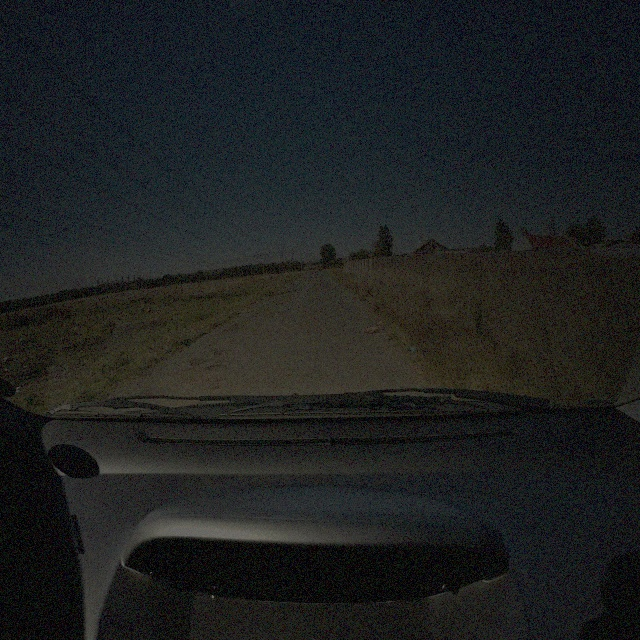pothole: (189, 354, 207, 367), (207, 364, 229, 372), (214, 348, 231, 358), (227, 324, 243, 331)
